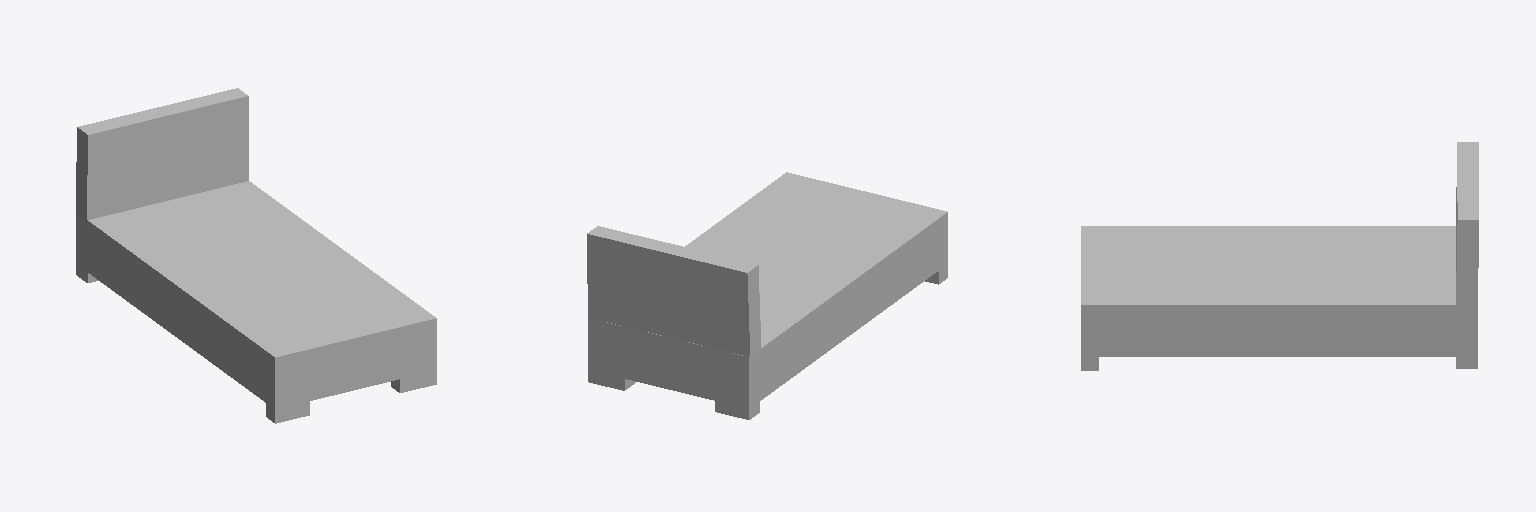
File: bed.obj
3 views of the same model, side by side, from view 1: azimuth 30°, elevation 25°; view 2: azimuth 150°, elevation 25°; view 3: azimuth 270°, elevation 25° (orthographic).
Parts seen in each view (by area): view 1: Suporte_de_cama_Cube, Cabeceira_Cube.003; view 2: Suporte_de_cama_Cube, Cabeceira_Cube.003; view 3: Suporte_de_cama_Cube, Cabeceira_Cube.003.
Boxes of the visible parts, <box> form: Suporte_de_cama_Cube: <box>76,181,436,423</box>; Cabeceira_Cube.003: <box>76,88,248,220</box>; Suporte_de_cama_Cube: <box>588,172,947,419</box>; Cabeceira_Cube.003: <box>587,226,760,356</box>; Suporte_de_cama_Cube: <box>1081,226,1477,370</box>; Cabeceira_Cube.003: <box>1456,142,1478,304</box>.
Bounding box in the file's own units: 2.07 × 1.83 × 4.4.